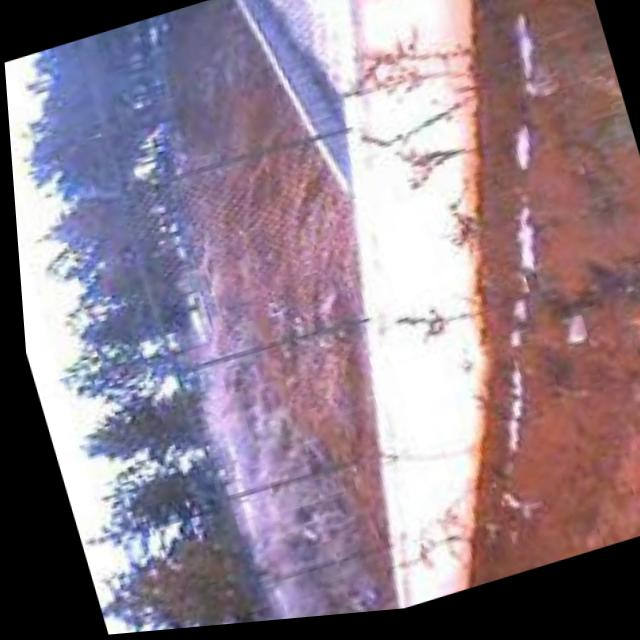Fire: (618, 311, 640, 439)
